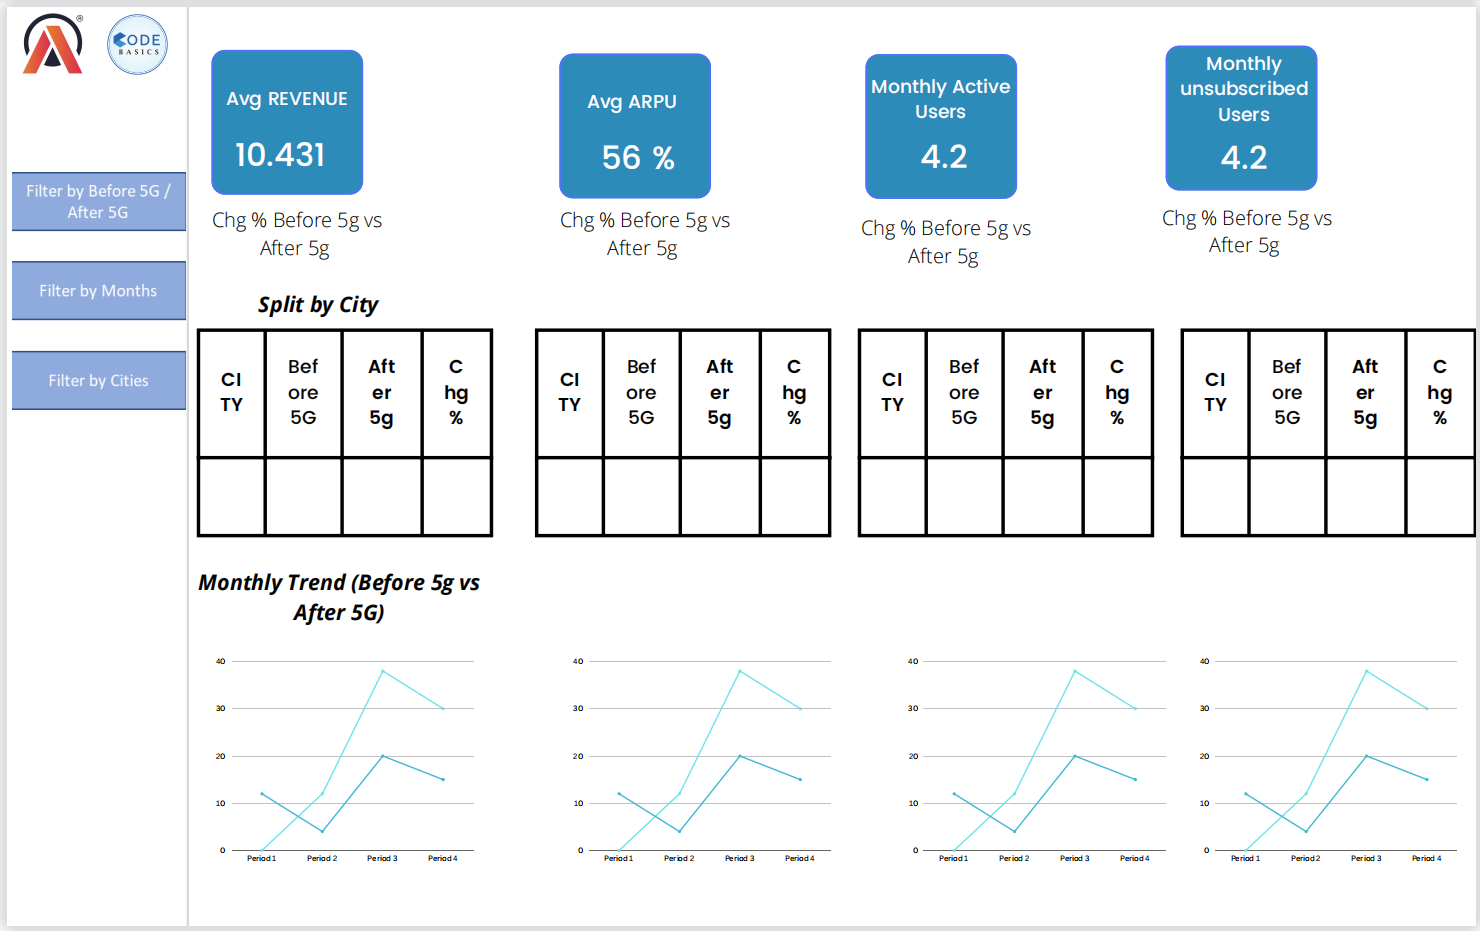

Layout of this report page (visuals, bound fields, positions):
{"tool":"powerbi","page":{"name":"Home","canvas":[1280,760],"ordinal":0},"visuals":[{"type":"shape","title":"Menu Bar","box":[0,0,85.4,759.5],"z":0,"group":"g3"},{"type":"textbox","box":[402,0,547.6,72.8],"z":0,"group":"g8"},{"type":"group","id":"g1","title":"Top Values BG","box":[77.2,52.1,1191.2,142.9],"z":0},{"type":"actionButton","box":[77.2,52.1,295.4,142.9],"z":0,"group":"g1"},{"type":"actionButton","box":[737.5,69.5,212.4,52.1],"z":0,"group":"g9"},{"type":"actionButton","box":[143.9,75.5,212.4,51.6],"z":0,"group":"g12"},{"type":"card","fields":{"Values":["measures (2).Average Revenue Per User"]},"box":[417,121.6,224,59.8],"z":0,"group":"g11"},{"type":"card","fields":{"Values":["measures (2).Monthly Unsub users"]},"box":[984.8,124.7,262,60],"z":0,"group":"g10"},{"type":"group","id":"g2","title":"Line chart bg","box":[575.3,211,694.2,532.9],"z":0,"group":"g7"},{"type":"actionButton","box":[74.2,211.5,501.9,533.5],"z":0,"group":"g5"},{"type":"actionButton","box":[603,221,288.8,52.1],"z":0,"group":"g4"},{"type":"actionButton","box":[577.2,483.2,345.6,260.6],"z":0,"group":"g2"},{"type":"lineChart","fields":{"Category":["dim_date.time_period"],"Y2":["measures (2).Unsubscribed users After 5G"],"Y":["measures (2).Unsubscribed users Before 5G"]},"box":[943.9,543,306.2,192.6],"z":0,"group":"g6"},{"type":"group","id":"g3","title":"Menu STuff","box":[0,0,85.4,759.5],"z":1000},{"type":"image","box":[397.4,0,51.6,51.6],"z":1000,"group":"g8"},{"type":"image","title":"Menu","box":[9,30,65,45],"z":1000,"group":"g3"},{"type":"actionButton","box":[375.8,52.1,295.4,142.9],"z":1000,"group":"g1"},{"type":"actionButton","box":[1054.2,72.8,186.6,51.6],"z":1000,"group":"g10"},{"type":"actionButton","box":[446,75.3,212.4,52.1],"z":1000,"group":"g11"},{"type":"card","fields":{"Values":["measures (2).Avg Revenue"]},"box":[110,121,224,59.8],"z":1000,"group":"g12"},{"type":"card","fields":{"Values":["measures (2).Monthly active users"]},"box":[691.3,124.7,247.8,60],"z":1000,"group":"g9"},{"type":"actionButton","box":[91.6,219.4,464,52.1],"z":1000,"group":"g5"},{"type":"group","id":"g4","title":"Line chart title","box":[595.1,221,653.4,323.6],"z":1000,"group":"g7"},{"type":"actionButton","box":[969.2,221,243.1,52.1],"z":1000,"group":"g4"},{"type":"lineChart","fields":{"Category":["dim_date.time_period"],"Y":["measures (2).Revenue Before 5G"],"Y2":["measures (2).Revenue After 5G"]},"box":[595.1,271.5,304.6,194.1],"z":1000,"group":"g6"},{"type":"actionButton","box":[923.9,477.4,345.6,262.6],"z":1000,"group":"g2"},{"type":"image","box":[717.9,0,50.2,52.1],"z":2000,"group":"g8"},{"type":"actionButton","box":[674.4,52.1,295.4,142.9],"z":2000,"group":"g1"},{"type":"image","box":[418.9,69.5,69.5,59.8],"z":2000,"group":"g11"},{"type":"image","box":[92.6,70.8,69.5,59.8],"z":2000,"group":"g12"},{"type":"image","box":[988,71,71,60],"z":2000,"group":"g10"},{"type":"image","box":[683.4,75.3,69.5,59.8],"z":2000,"group":"g9"},{"type":"actionButton","box":[575.3,211,345.6,262.6],"z":2000,"group":"g2"},{"type":"group","id":"g5","title":"Revenue by City","box":[74.2,211.5,501.9,533.5],"z":2000},{"type":"barChart","fields":{"Y":["measures (2).Avg Revenue"],"Category":["dim_cities.city_name"],"Series":["dim_date.before/after_5g"]},"box":[101,255.7,445.1,489.3],"z":2000,"group":"g5"},{"type":"group","id":"g6","title":"Line charts","box":[593.5,271.5,656.6,467.2],"z":2000,"group":"g7"},{"type":"actionButton","box":[595.1,492.5,304.6,52.1],"z":2000,"group":"g4"},{"type":"lineChart","fields":{"Category":["dim_date.time_period"],"Y":["measures (2).Active Users Before 5G"],"Y2":["measures (2).Active Users After 5G"]},"box":[593.5,546.1,304.6,192.6],"z":2000,"group":"g6"},{"type":"actionButton","box":[973,52.1,295.4,142.9],"z":3000,"group":"g1"},{"type":"group","id":"g7","title":"Trends","box":[575.3,211,694.2,532.9],"z":3000},{"type":"actionButton","box":[920.1,211,345.6,262],"z":3000,"group":"g2"},{"type":"lineChart","fields":{"Category":["dim_date.time_period"],"Y":["measures (2).ARPU Before 5G"],"Y2":["measures (2).ARPU After 5G"]},"box":[940.7,273.1,304.6,192.6],"z":3000,"group":"g6"},{"type":"actionButton","box":[945.5,492.5,303,52.1],"z":3000,"group":"g4"},{"type":"group","id":"g8","title":"Atliq Title","box":[397.4,0,552.2,72.8],"z":4000},{"type":"group","id":"g9","title":"Active Users","box":[683.4,69.5,266.4,115.2],"z":4000,"group":"g1"},{"type":"group","id":"g10","title":"Unsub users","box":[984.8,71,262,113.6],"z":5000,"group":"g1"},{"type":"group","id":"g11","title":"ARPU","box":[417,69.5,241.3,112],"z":6000,"group":"g1"},{"type":"group","id":"g12","title":"Avg Revenue","box":[92.6,70.8,263.7,110],"z":7000,"group":"g1"},{"type":"image","box":[15.2,186.6,54.6,50.1],"z":10000},{"type":"image","box":[12.1,257.9,60.7,50.1],"z":11000},{"type":"image","box":[12.1,653.8,60.7,50.1],"z":11002,"group":"g3"},{"type":"image","box":[13.7,591.6,59.2,50.1],"z":12000}]}

Visuals, with their boxes on the page's 1280x760 design canvas (x1, y1, x2, y2). These are canvas units, not pixel positions in the 1480x931 screenshot, which may show the page scaled, cropped or inside an application window:
"Menu Bar" shape: <region>0, 0, 85, 760</region>
textbox: <region>402, 0, 950, 73</region>
"Top Values BG" group: <region>77, 52, 1268, 195</region>
actionButton: <region>77, 52, 373, 195</region>
actionButton: <region>738, 70, 950, 122</region>
actionButton: <region>144, 76, 356, 127</region>
card - measures (2).Average Revenue Per User: <region>417, 122, 641, 181</region>
card - measures (2).Monthly Unsub users: <region>985, 125, 1247, 185</region>
"Line chart bg" group: <region>575, 211, 1270, 744</region>
actionButton: <region>74, 212, 576, 745</region>
actionButton: <region>603, 221, 892, 273</region>
actionButton: <region>577, 483, 923, 744</region>
lineChart - dim_date.time_period x measures (2).Unsubscribed users After 5G: <region>944, 543, 1250, 736</region>
"Menu STuff" group: <region>0, 0, 85, 760</region>
image: <region>397, 0, 449, 52</region>
"Menu" image: <region>9, 30, 74, 75</region>
actionButton: <region>376, 52, 671, 195</region>
actionButton: <region>1054, 73, 1241, 124</region>
actionButton: <region>446, 75, 658, 127</region>
card - measures (2).Avg Revenue: <region>110, 121, 334, 181</region>
card - measures (2).Monthly active users: <region>691, 125, 939, 185</region>
actionButton: <region>92, 219, 556, 272</region>
"Line chart title" group: <region>595, 221, 1248, 545</region>
actionButton: <region>969, 221, 1212, 273</region>
lineChart - dim_date.time_period x measures (2).Revenue Before 5G: <region>595, 272, 900, 466</region>
actionButton: <region>924, 477, 1270, 740</region>
image: <region>718, 0, 768, 52</region>
actionButton: <region>674, 52, 970, 195</region>
image: <region>419, 70, 488, 129</region>
image: <region>93, 71, 162, 131</region>
image: <region>988, 71, 1059, 131</region>
image: <region>683, 75, 753, 135</region>
actionButton: <region>575, 211, 921, 474</region>
"Revenue by City" group: <region>74, 212, 576, 745</region>
barChart - measures (2).Avg Revenue x dim_cities.city_name: <region>101, 256, 546, 745</region>
"Line charts" group: <region>594, 272, 1250, 739</region>
actionButton: <region>595, 492, 900, 545</region>
lineChart - dim_date.time_period x measures (2).Active Users Before 5G: <region>594, 546, 898, 739</region>
actionButton: <region>973, 52, 1268, 195</region>
"Trends" group: <region>575, 211, 1270, 744</region>
actionButton: <region>920, 211, 1266, 473</region>
lineChart - dim_date.time_period x measures (2).ARPU Before 5G: <region>941, 273, 1245, 466</region>
actionButton: <region>946, 492, 1248, 545</region>
"Atliq Title" group: <region>397, 0, 950, 73</region>
"Active Users" group: <region>683, 70, 950, 185</region>
"Unsub users" group: <region>985, 71, 1247, 185</region>
"ARPU" group: <region>417, 70, 658, 182</region>
"Avg Revenue" group: <region>93, 71, 356, 181</region>
image: <region>15, 187, 70, 237</region>
image: <region>12, 258, 73, 308</region>
image: <region>12, 654, 73, 704</region>
image: <region>14, 592, 73, 642</region>
